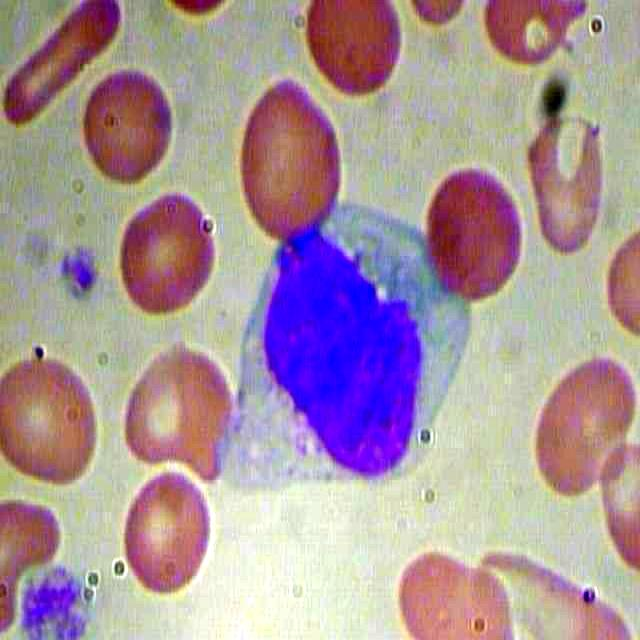RBC: (232, 69, 349, 248), (1, 339, 112, 488), (120, 344, 238, 484), (413, 162, 531, 302), (1, 2, 126, 134), (111, 460, 222, 605), (529, 353, 640, 498), (522, 97, 617, 263), (112, 186, 221, 322), (79, 60, 176, 197)
WBC: (216, 203, 471, 516)
